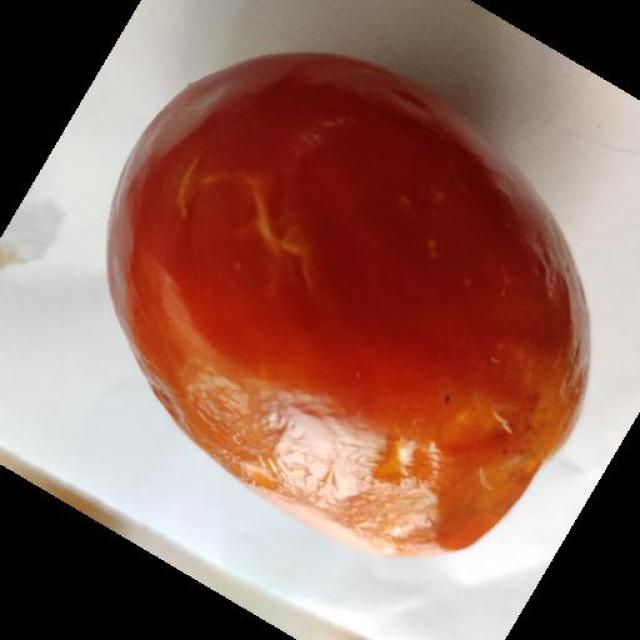Stale_tomato: (130, 50, 582, 534)
